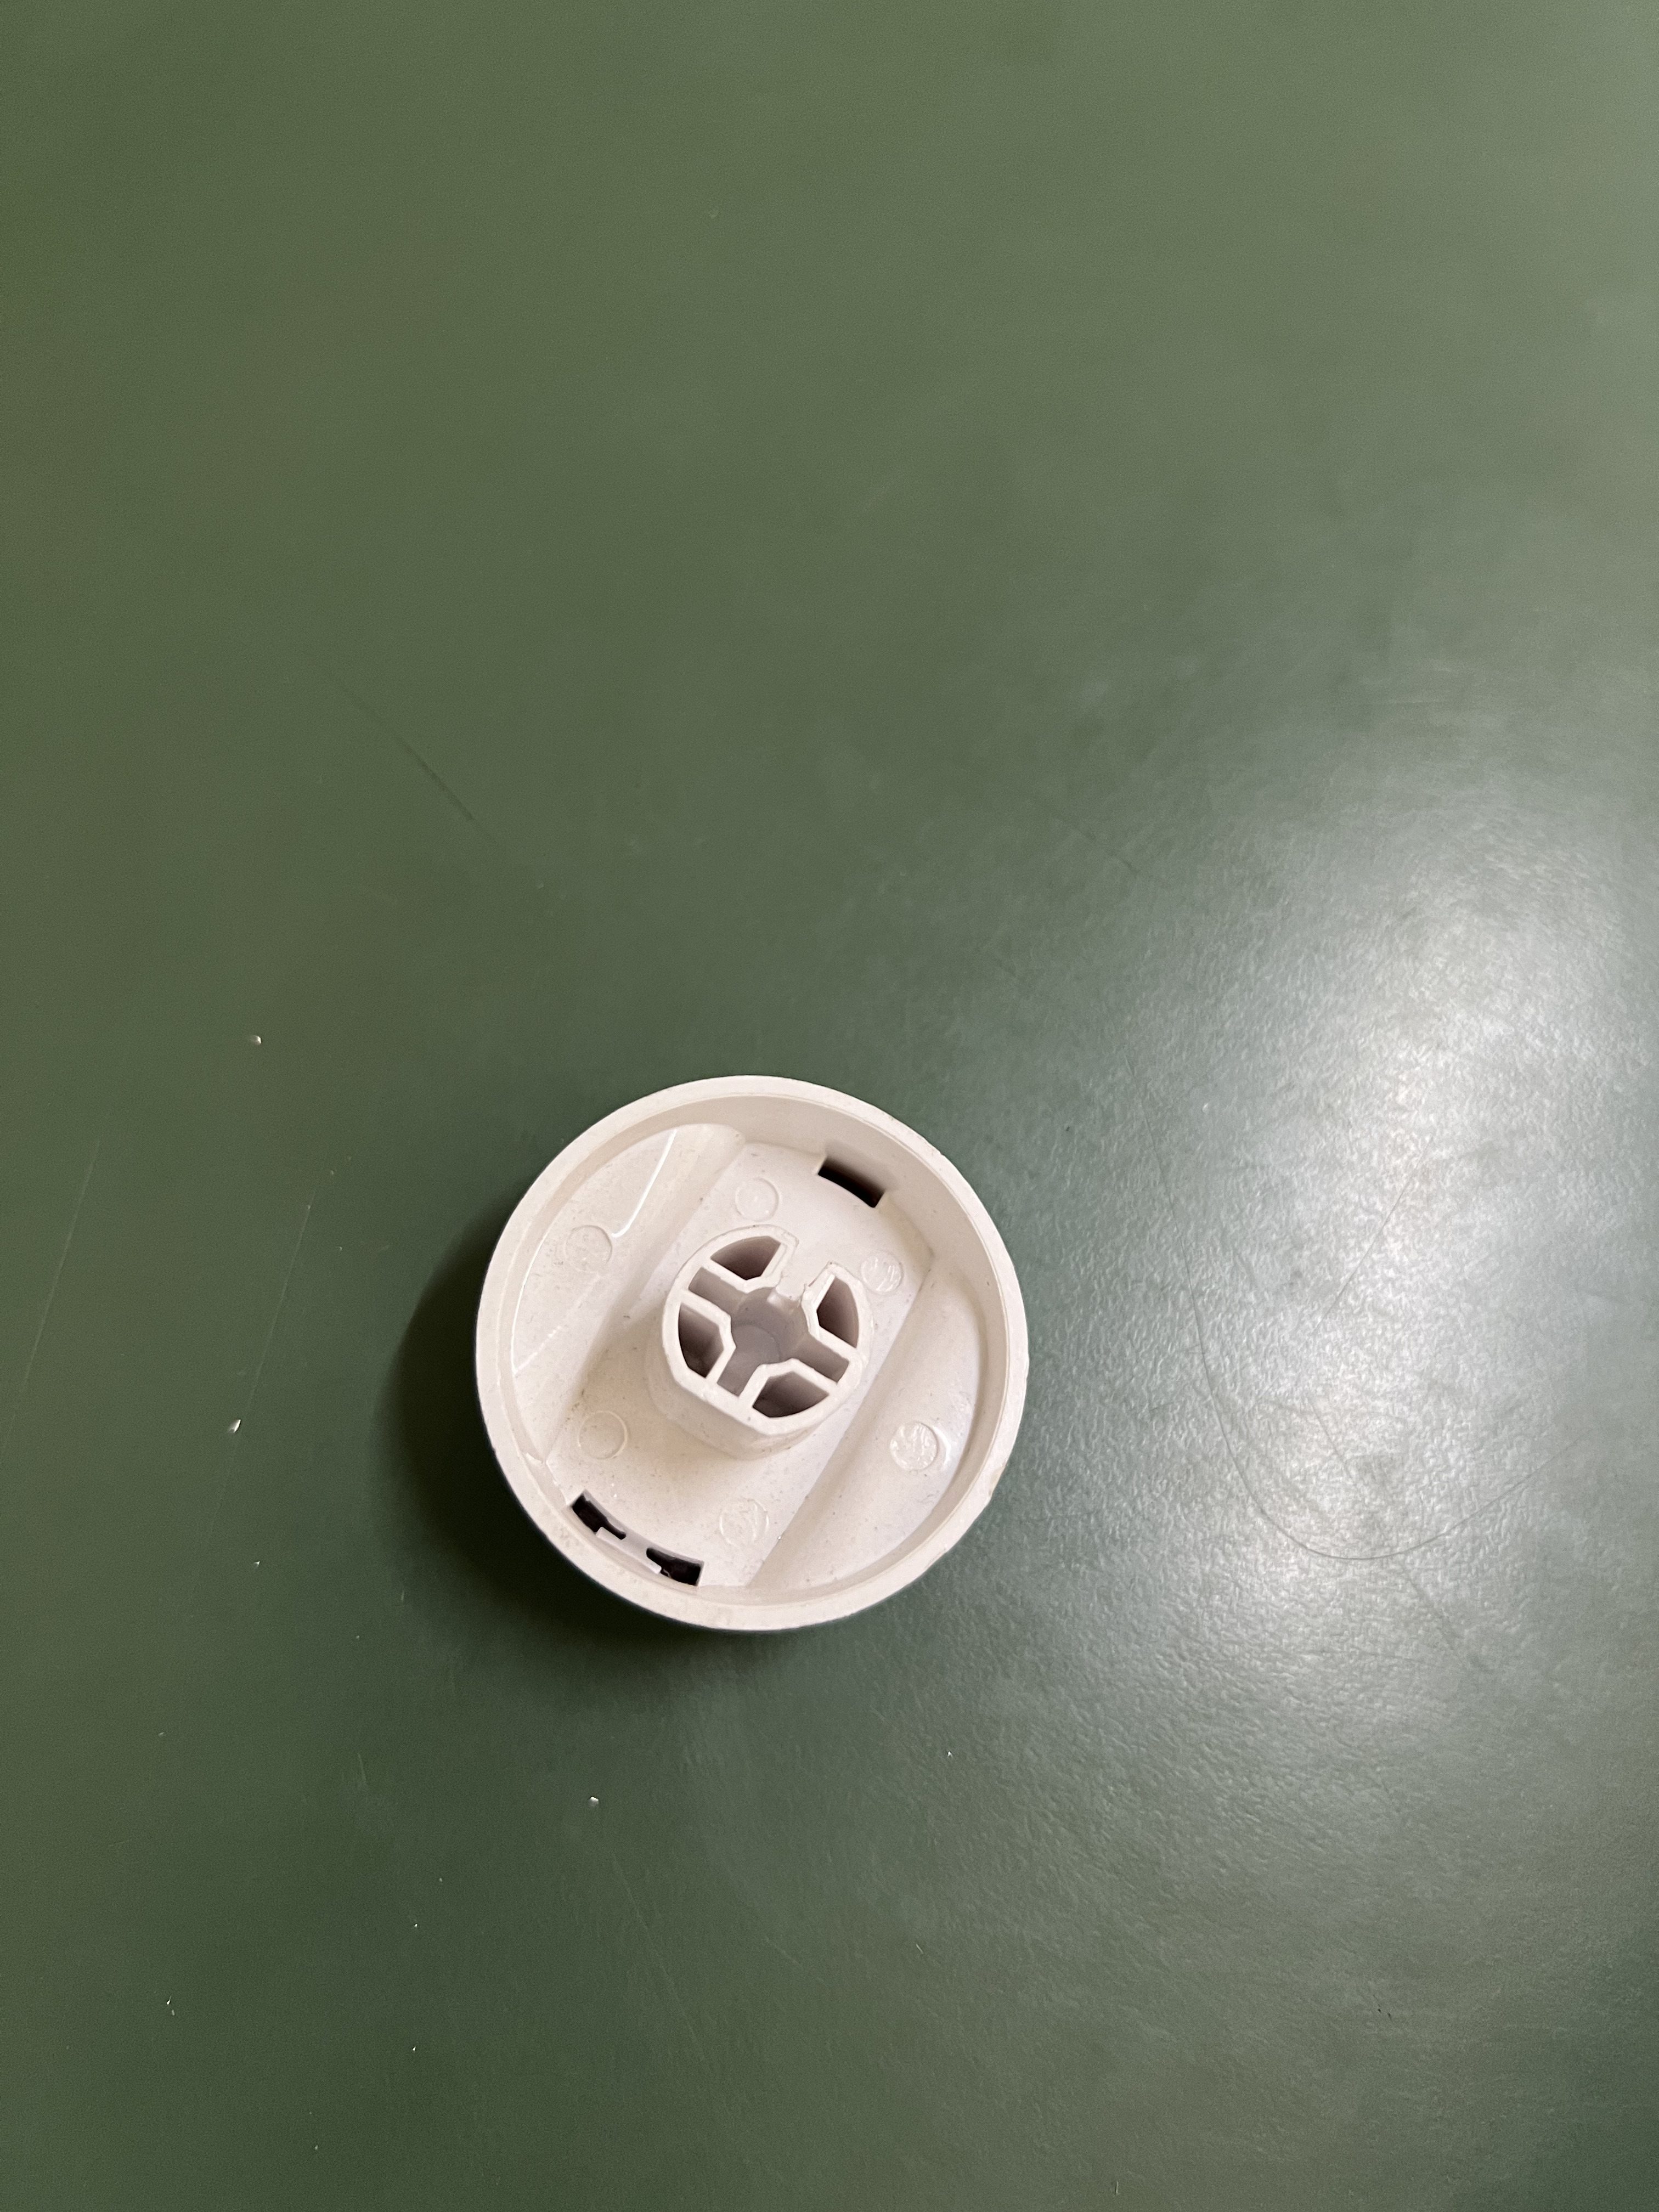regulator: (465, 1061, 1049, 1693)
